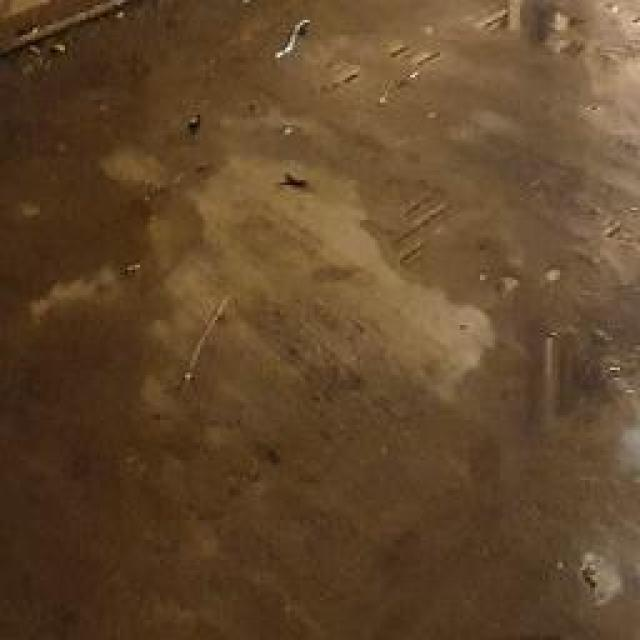stagnation: (127, 109, 493, 438)
